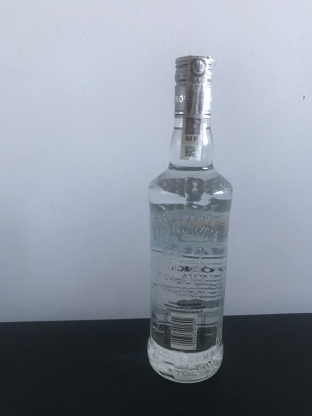nakretka: (170, 51, 219, 121)
